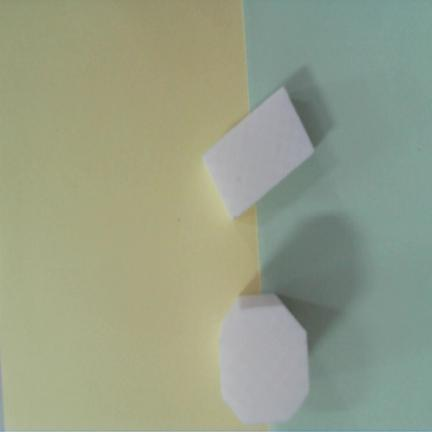Paralelepipedo: (203, 86, 313, 219)
Prisma_hexagonal: (219, 293, 308, 425)
